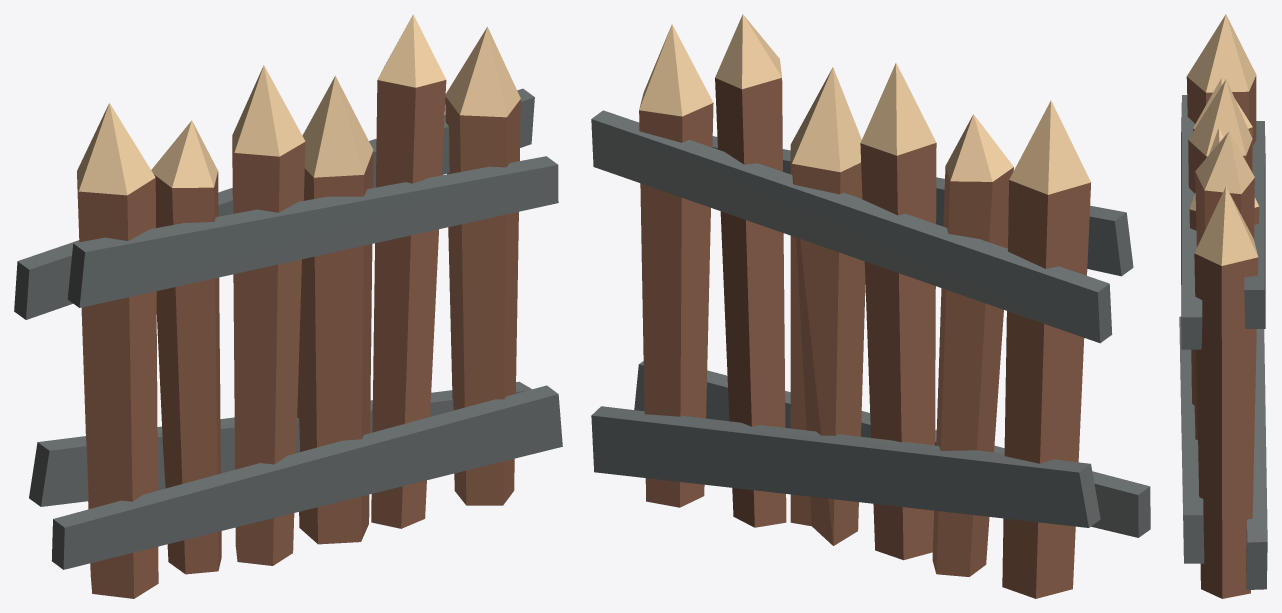
File: RAS_Fence.fbx
The picture shows the model from 3 angles, left to right: view 1: azimuth 30°, elevation 25°; view 2: azimuth 150°, elevation 25°; view 3: azimuth 270°, elevation 25°; orthographic projection. The views are drawn at different scales.
Parts seen in each view (by area): view 1: RAS_Fence; view 2: RAS_Fence; view 3: RAS_Fence.
Part boxes in pixels (x1,y1,x2,y2): RAS_Fence: (14,14,562,598); RAS_Fence: (591,14,1150,598); RAS_Fence: (1179,14,1267,598).
Bounding box in the file's own units: 88.48 × 82.65 × 15.5.
Materials: 1 (1 with a texture image).
